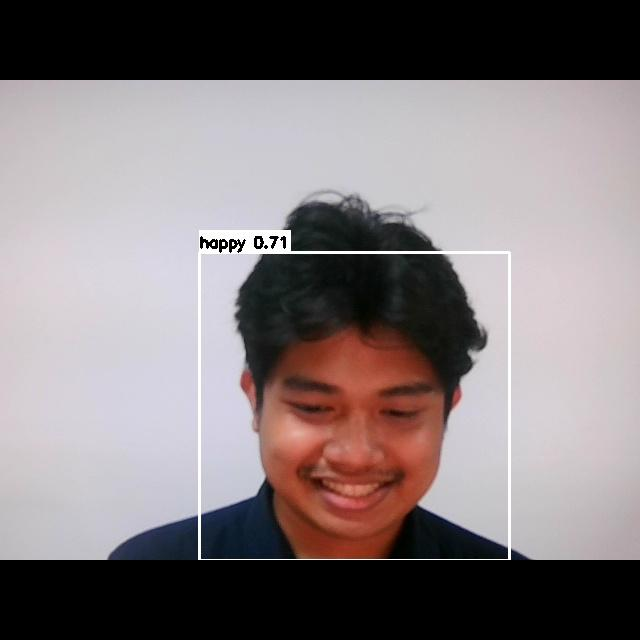Happy: (261, 347, 457, 514)
